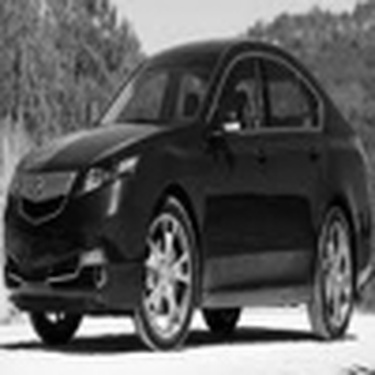car: (5, 6, 372, 371)
